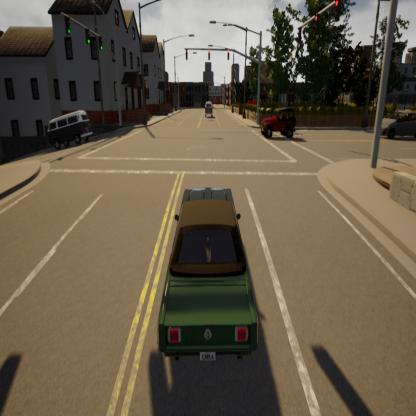Cars: (158, 188, 260, 364), (47, 108, 94, 148), (376, 105, 416, 145), (261, 104, 296, 143), (204, 99, 214, 121), (277, 100, 277, 104)
